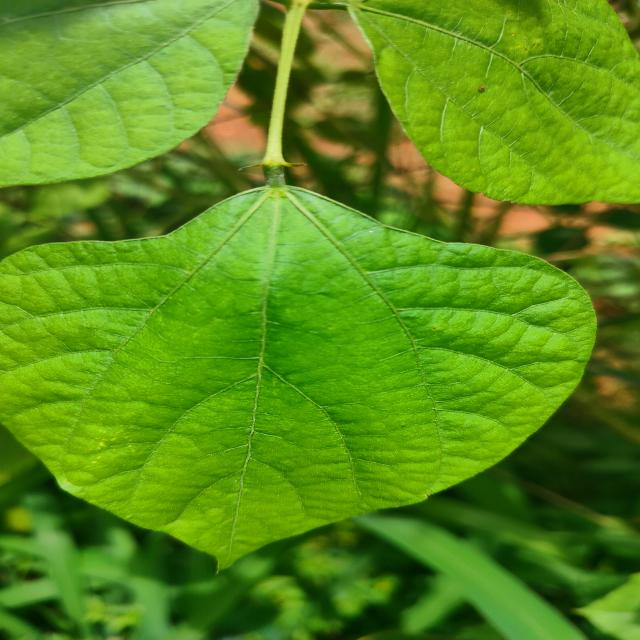Dolicos bean_healthy: (0, 181, 594, 554), (349, 0, 640, 210), (0, 0, 267, 179)
